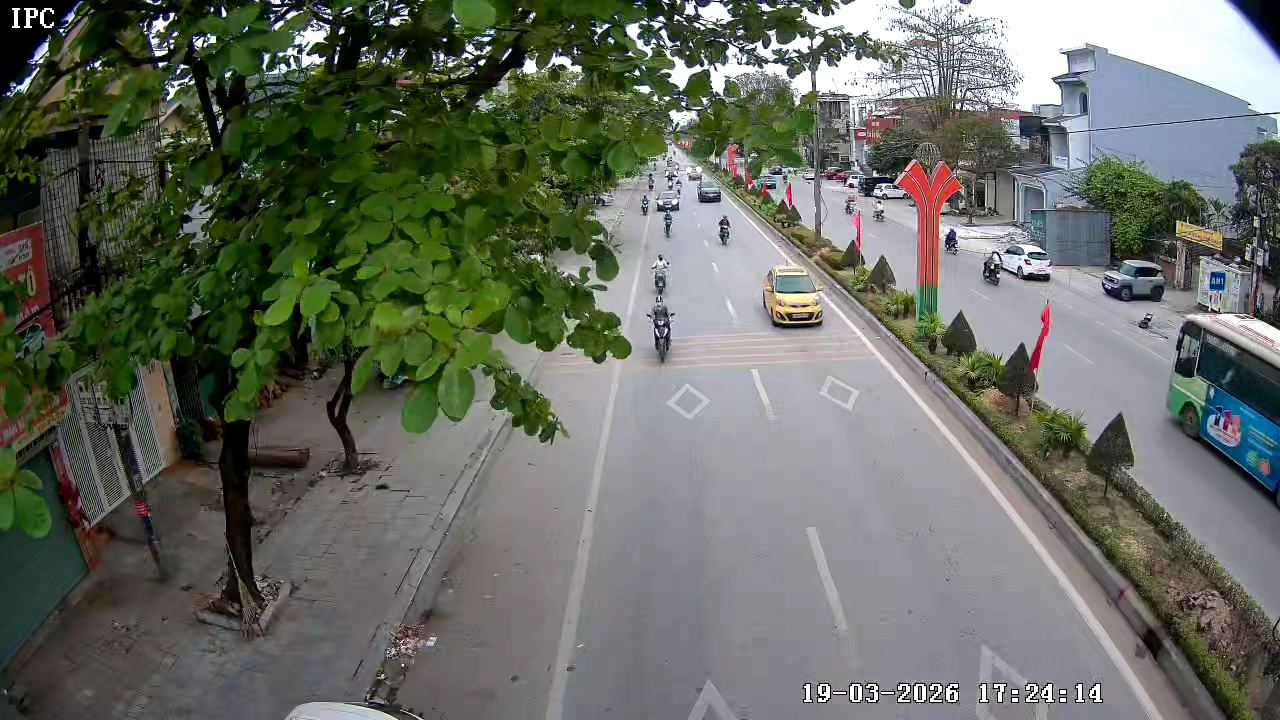car: (760, 261, 825, 329), (1100, 257, 1166, 303), (1002, 242, 1055, 281), (698, 175, 723, 204)
motorbike: (644, 292, 677, 364), (649, 251, 672, 297), (981, 249, 1002, 287), (659, 198, 678, 239), (716, 212, 733, 246), (638, 190, 652, 216)
truck: (1166, 308, 1279, 529)
